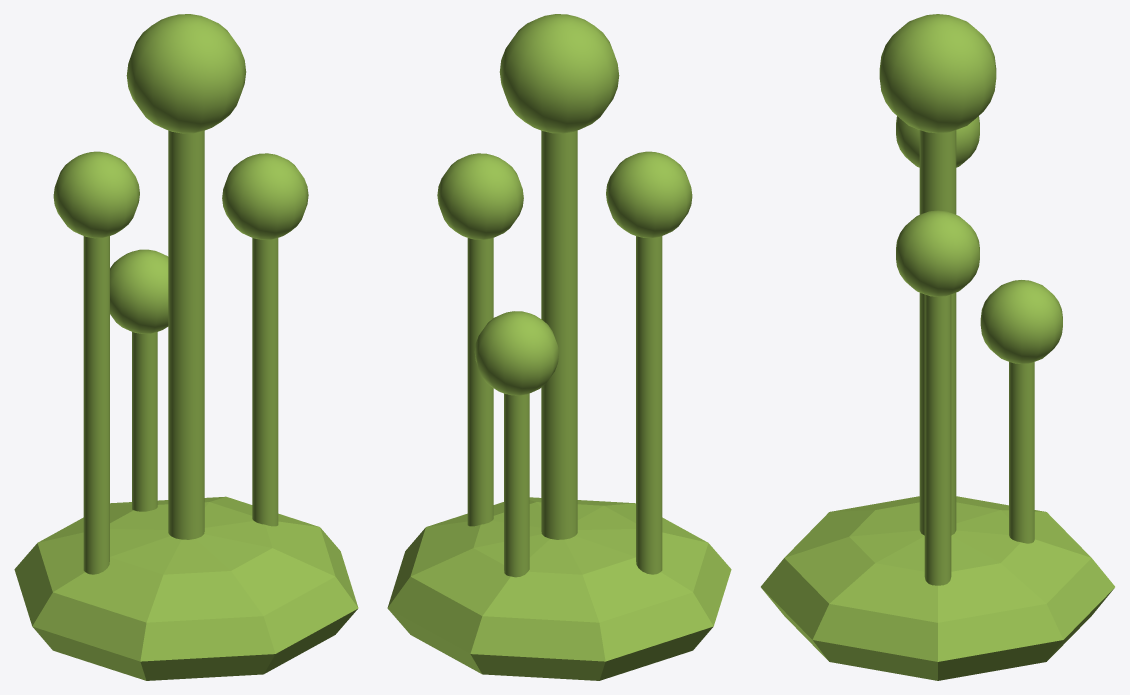
Rendered from poppy2.fbx.
3 renders of one model, left to right at view 1: azimuth 30°, elevation 25°; view 2: azimuth 150°, elevation 25°; view 3: azimuth 270°, elevation 25°, orthographic.
Parts seen in each view (by area): view 1: PoppyBase, Stalk (×4), PoppyHead (×4); view 2: PoppyBase, Stalk (×4), PoppyHead (×4); view 3: PoppyBase, PoppyHead (×4), Stalk (×3).
Boxes of the visible parts, x1,y1,x2,y2 form: PoppyBase: [14, 496, 358, 680]; Stalk (×4): [83, 130, 278, 574]; PoppyHead (×4): [53, 14, 308, 333]; PoppyBase: [387, 497, 731, 680]; Stalk (×4): [467, 130, 662, 577]; PoppyHead (×4): [437, 14, 692, 395]; PoppyBase: [761, 496, 1114, 680]; PoppyHead (×4): [879, 14, 1062, 363]; Stalk (×3): [919, 130, 1034, 585].
Size of the model in its own units: 2.23 by 4.33 by 2.23.
